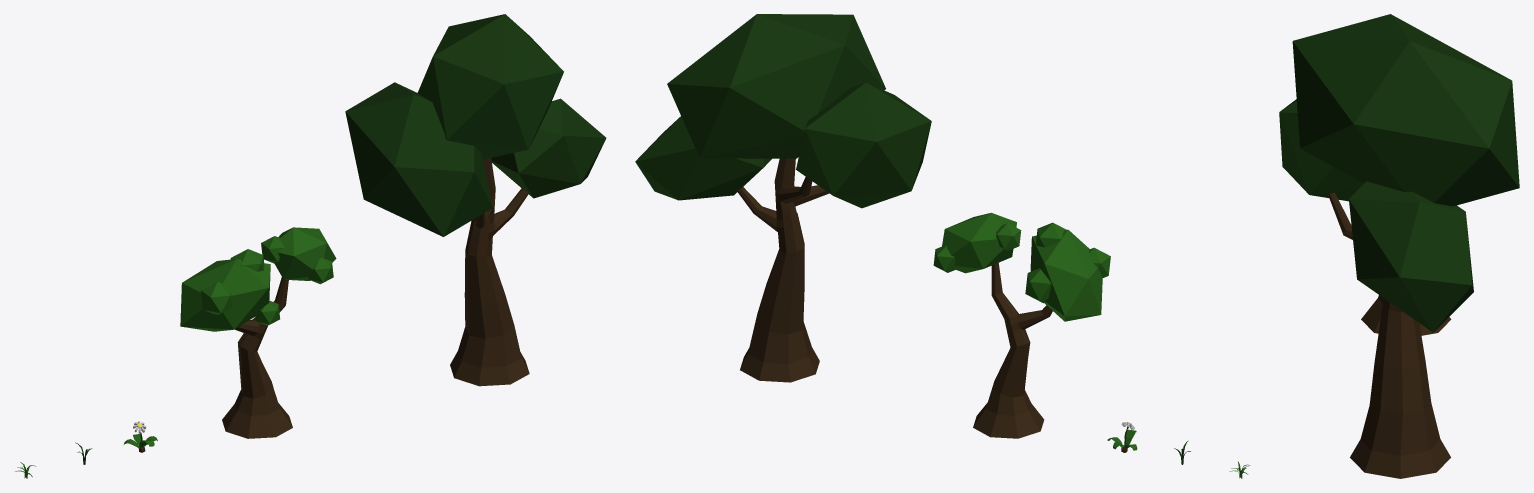
The model's file is organic.fbx.
The picture shows the model from 3 angles, left to right: view 1: azimuth 30°, elevation 25°; view 2: azimuth 150°, elevation 25°; view 3: azimuth 270°, elevation 25°; orthographic projection. The views are drawn at different scales.
Parts seen in each view (by area): view 1: tree1, tree2; view 2: tree1, tree2; view 3: tree1, tree2.
Boxes of the visible parts, x1,y1,x2,y2 form: tree1: (345, 14, 606, 386); tree2: (180, 227, 336, 438); tree1: (635, 14, 931, 382); tree2: (933, 212, 1110, 438); tree1: (1279, 14, 1519, 478); tree2: (1361, 295, 1451, 335).
Bounding box in the file's own units: 1017 × 578 × 293.
